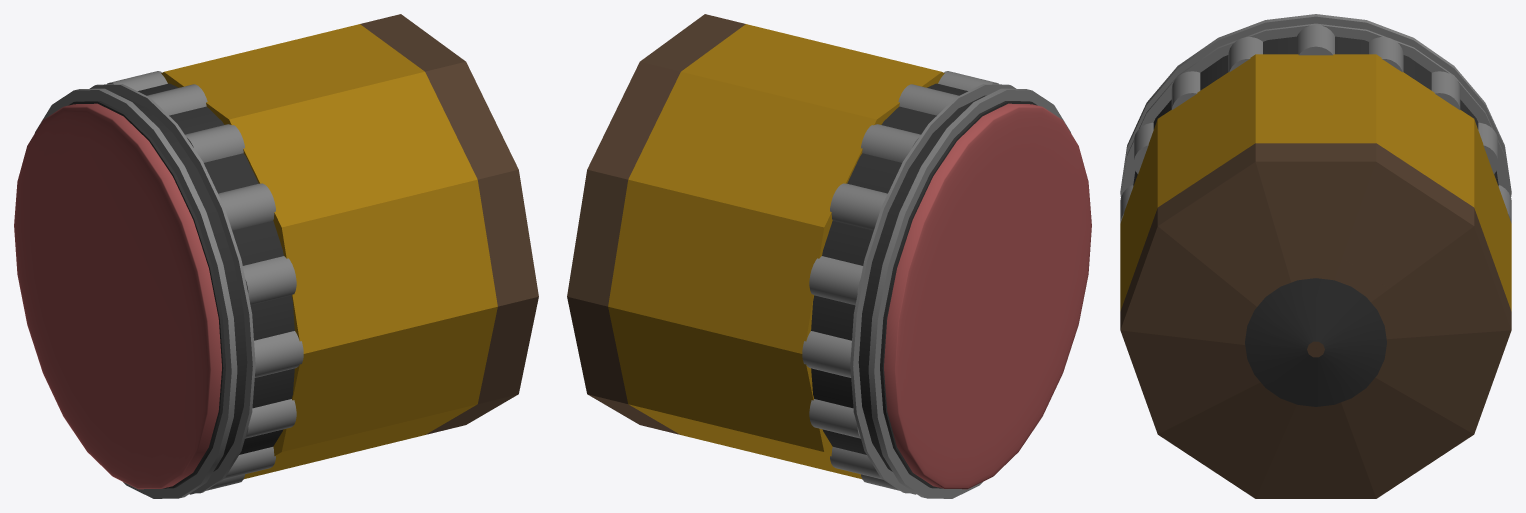
The model's file is pencil.glb.
3 views of the same model, side by side, from view 1: azimuth 30°, elevation 25°; view 2: azimuth 150°, elevation 25°; view 3: azimuth 270°, elevation 25° (orthographic). The views are drawn at different scales.
Parts seen in each view (by area): view 1: painted_shaft_fitted, eraser_fitted, wood_barrel_fitted, sleeve_fitted, end_band_fitted, band_fitted, rib.010_fitted, rib.011_fitted, rib.009_fitted, rib.012_fitted, rib.008_fitted, rib.013_fitted (+2 smaller); view 2: painted_shaft_fitted, eraser_fitted, wood_barrel_fitted, sleeve_fitted, end_band_fitted, band_fitted, rib.016_fitted, rib.015_fitted, rib.001_fitted, rib.014_fitted, rib.002_fitted, rib.013_fitted (+2 smaller); view 3: wood_barrel_fitted, painted_shaft_fitted, graphite_fitted, end_band_fitted, band_fitted, sleeve_fitted, rib.013_fitted, rib.011_fitted, rib.015_fitted, rib.012_fitted, rib.014_fitted, rib.010_fitted (+1 smaller).
Part boxes in pixels (x1,y1,x2,y2): painted_shaft_fitted: (161,24,497,478); eraser_fitted: (14,103,221,489); wood_barrel_fitted: (360,14,538,434); sleeve_fitted: (68,83,294,488); end_band_fitted: (35,88,237,498); band_fitted: (89,84,255,493); rib.010_fitted: (243,256,296,305); rib.011_fitted: (218,183,275,230); rib.009_fitted: (254,331,303,377); rib.012_fitted: (185,124,244,162); rib.008_fitted: (245,399,296,438); rib.013_fitted: (147,84,207,115); painted_shaft_fitted: (608,24,944,478); eraser_fitted: (884,103,1091,489); wood_barrel_fitted: (567,14,745,434); sleeve_fitted: (811,83,1037,488); end_band_fitted: (868,88,1070,498); band_fitted: (850,84,1016,493); rib.016_fitted: (809,256,862,305); rib.015_fitted: (830,183,887,230); rib.001_fitted: (802,331,851,377); rib.014_fitted: (861,124,920,162); rib.002_fitted: (809,399,860,438); rib.013_fitted: (898,84,958,115); wood_barrel_fitted: (1120,143,1511,498); painted_shaft_fitted: (1120,54,1511,311); graphite_fitted: (1245,278,1386,406); end_band_fitted: (1120,14,1511,196); band_fitted: (1120,23,1511,200); sleeve_fitted: (1133,36,1498,185); rib.013_fitted: (1297,25,1334,55); rib.011_fitted: (1171,71,1200,109); rib.015_fitted: (1431,71,1460,109); rib.012_fitted: (1228,37,1262,72); rib.014_fitted: (1369,37,1403,72); rib.010_fitted: (1134,122,1153,173).
Bounding box in the file's own units: 1 × 1 × 1.
